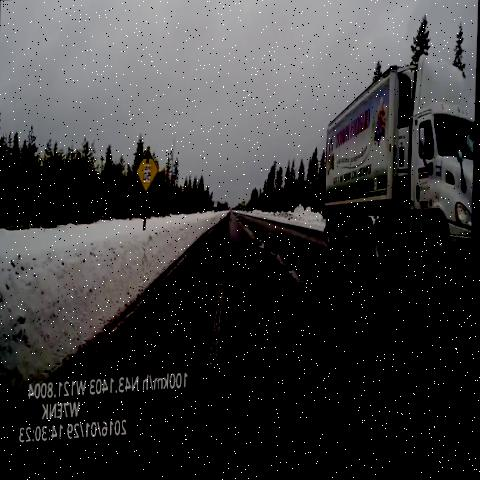pothole: (253, 235, 326, 312), (231, 212, 247, 230), (242, 224, 256, 239)
